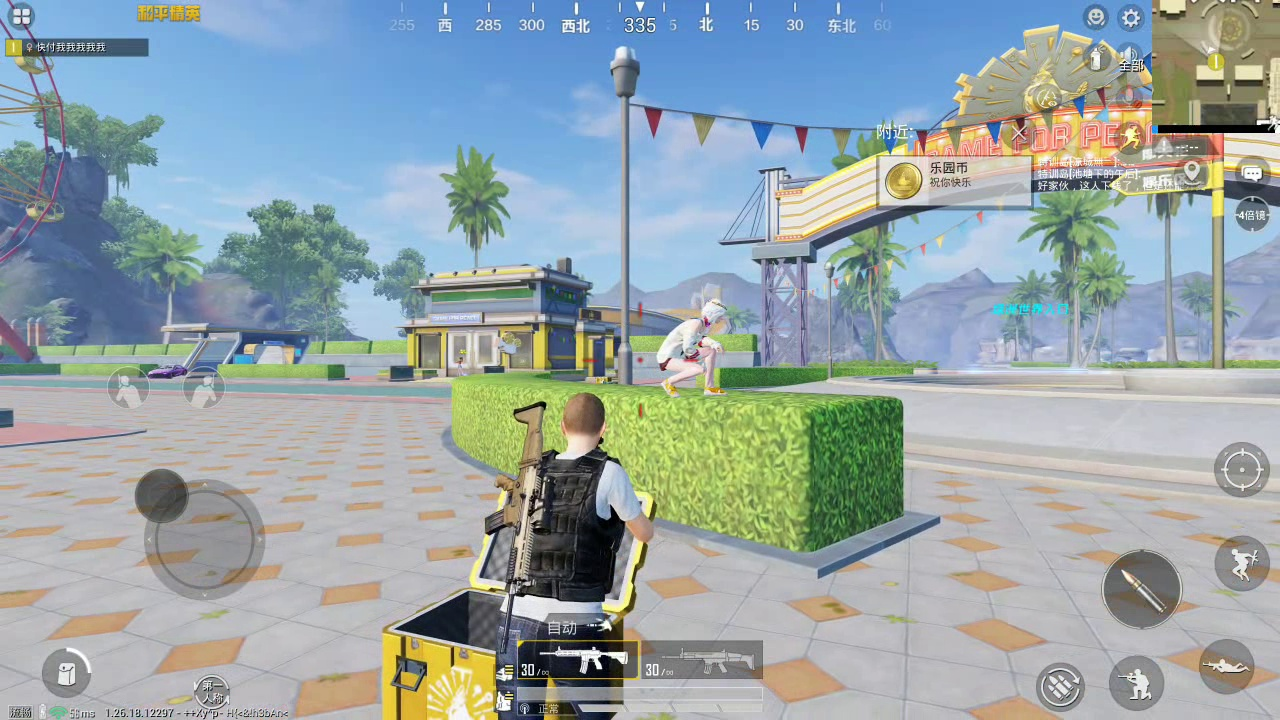enemy: (658, 299, 721, 397)
